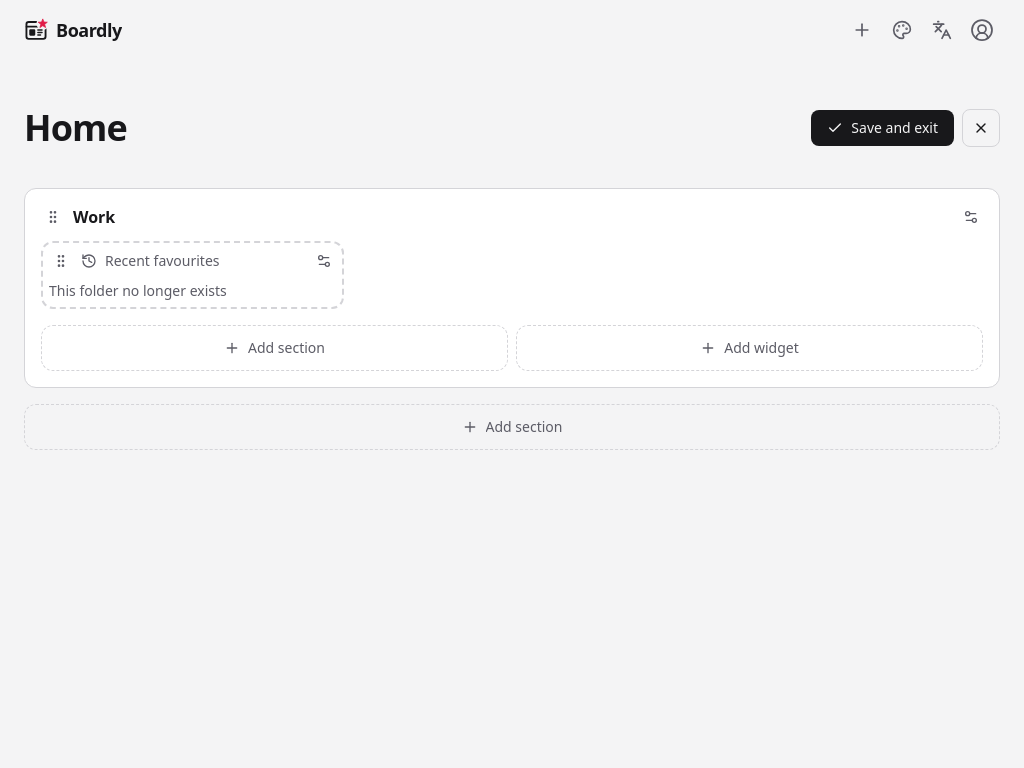
the recent favourites widget on a dashboard › shows a deleted folder and lets another one be chosen
The image size is (1024, 768).
Expected: the button "Save and exit" is shown, left=811, top=110, right=954, bottom=146
Expected: the text "This folder no longer exists" is shown, left=49, top=281, right=227, bottom=300
Click the button named "Edit Recent favourites".
click(324, 261)  # box left=312, top=249, right=336, bottom=273
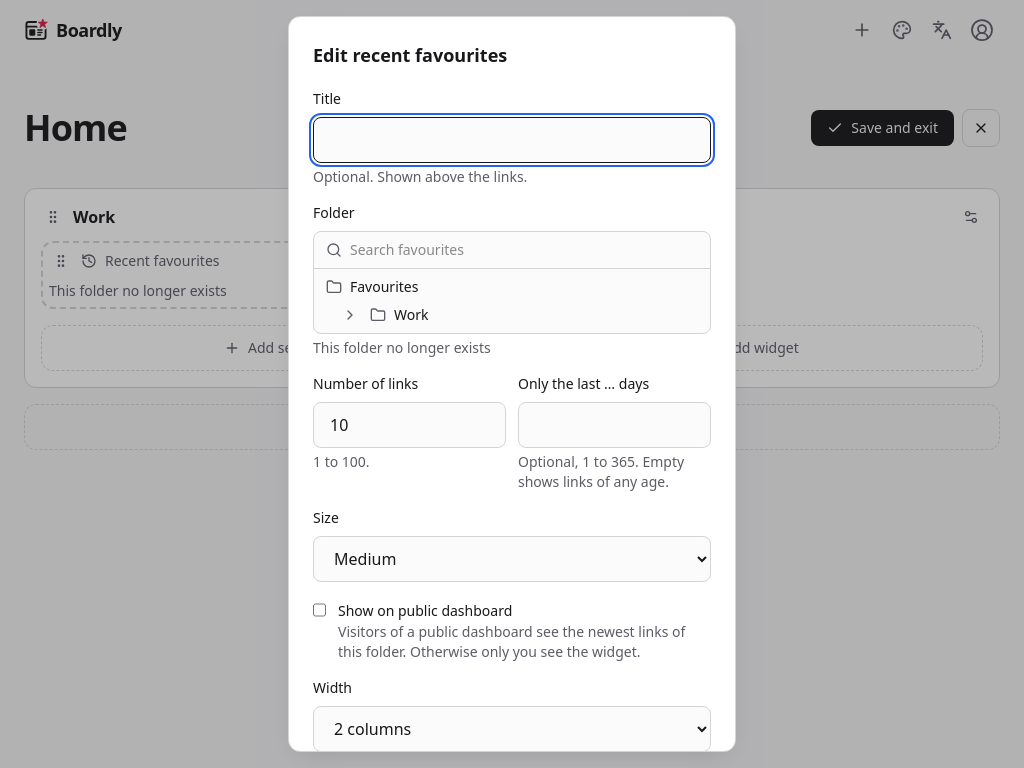
Click the button named "Expand Work".
click(350, 315)  # box left=338, top=303, right=362, bottom=327
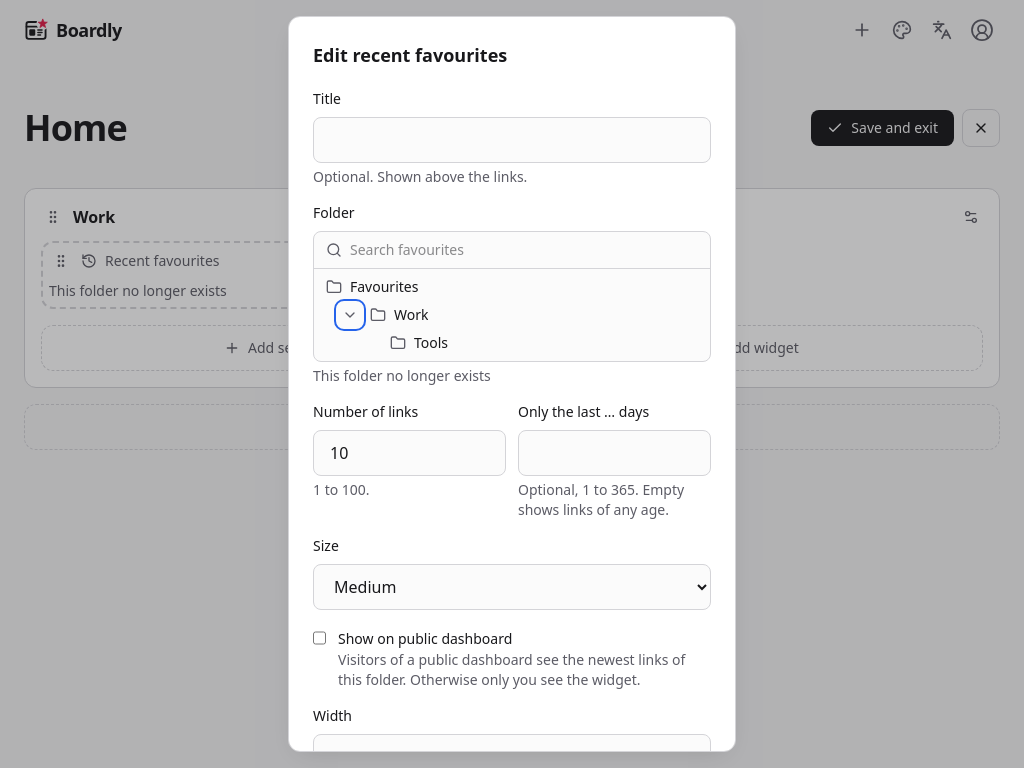
Click the radio button labelled "Tools".
click(419, 342)  # box left=390, top=333, right=448, bottom=352
(page scrolled)
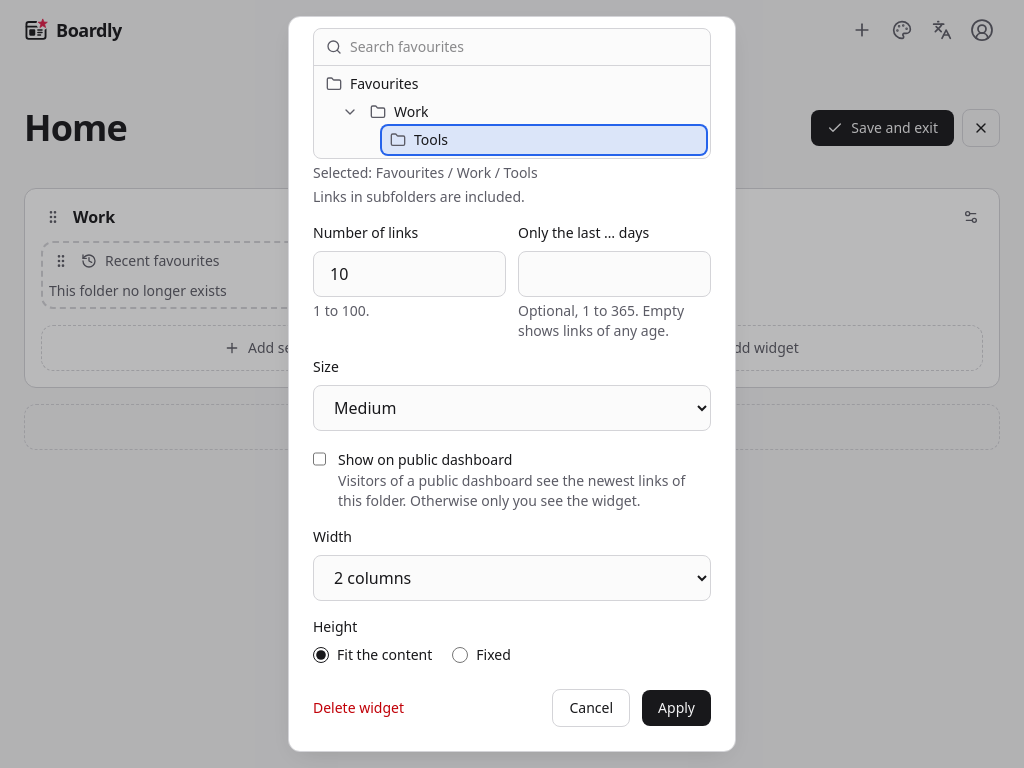
Click the button "Apply".
click(677, 708)  # box left=642, top=690, right=711, bottom=726
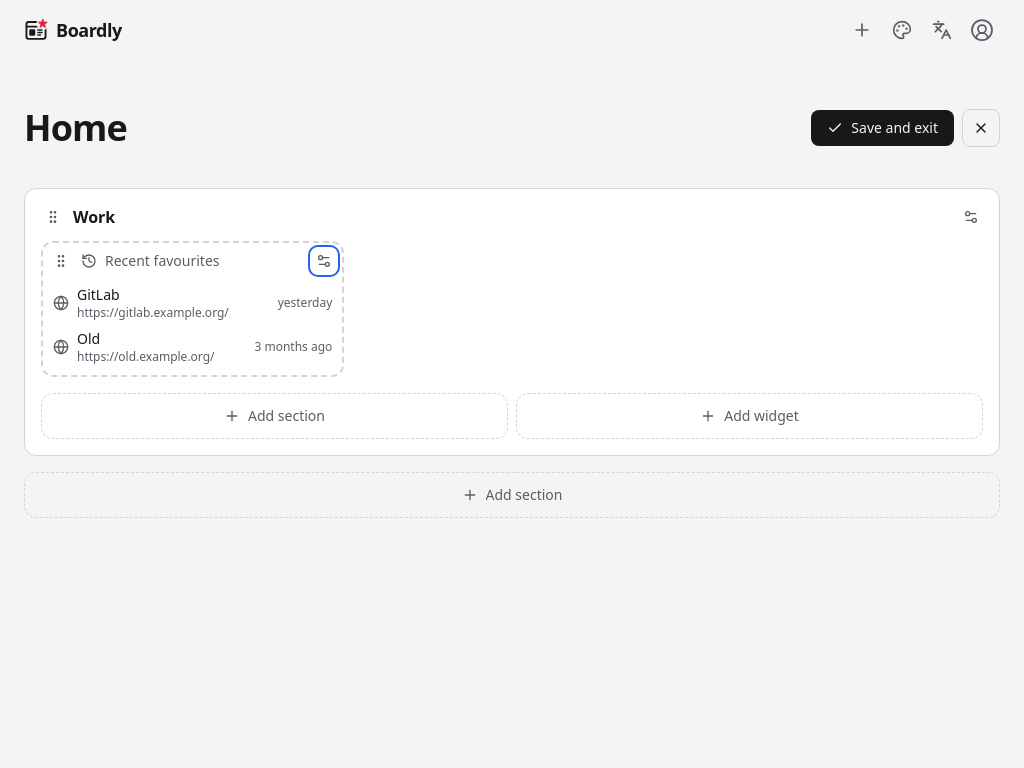
Expected: the link "GitLab https://gitlab.example.org/ yesterday" is shown, left=49, top=281, right=336, bottom=325
